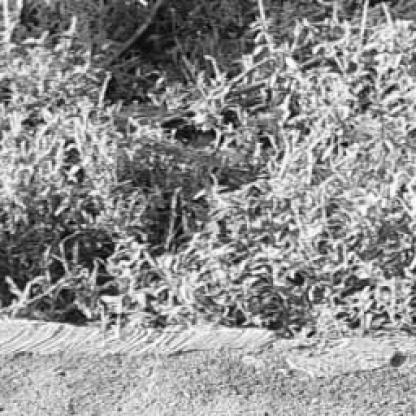cementitious_debris: (0, 1, 414, 339)
